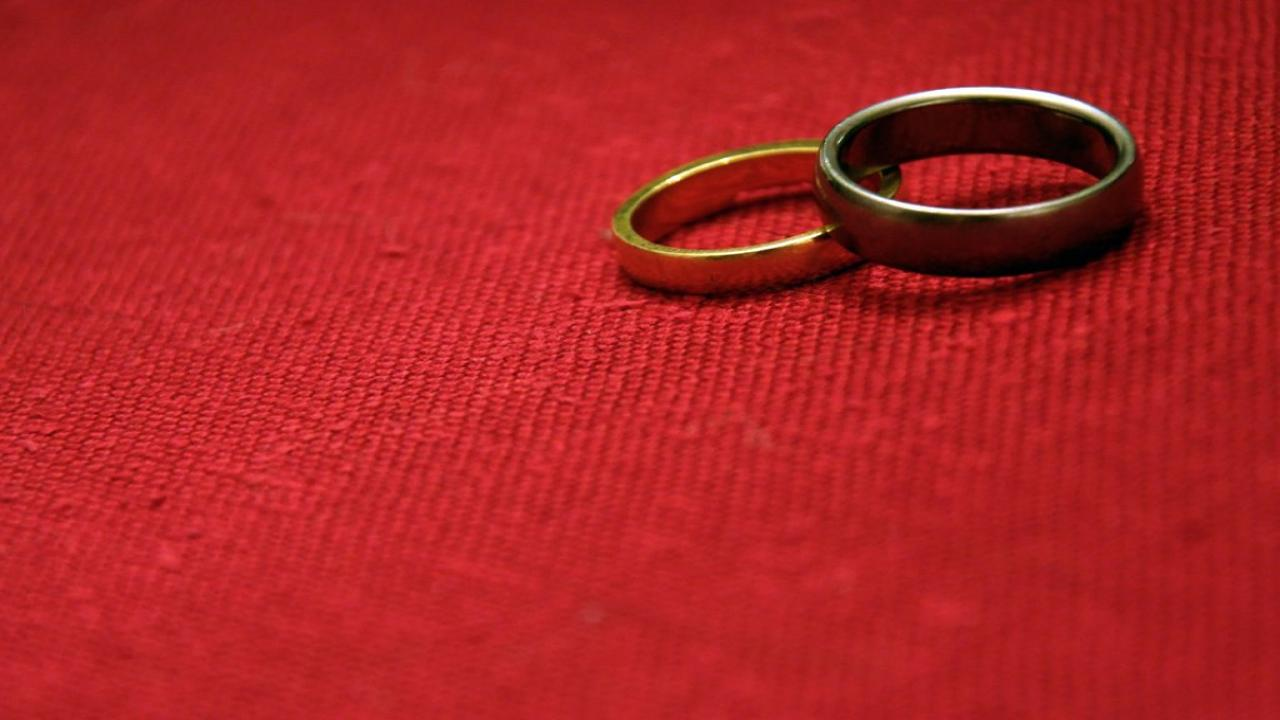ring: (814, 80, 1148, 280), (608, 132, 902, 298)
